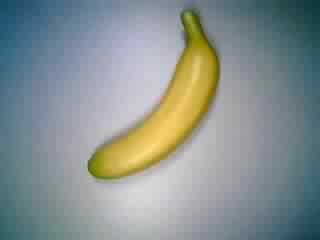banana: (86, 9, 223, 182)
